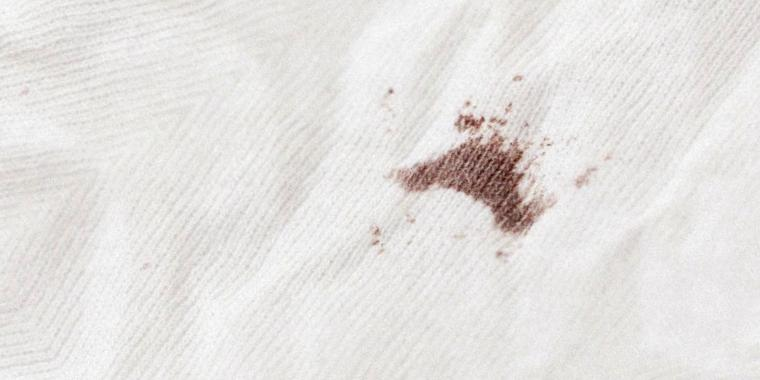stain: (394, 114, 548, 238)
